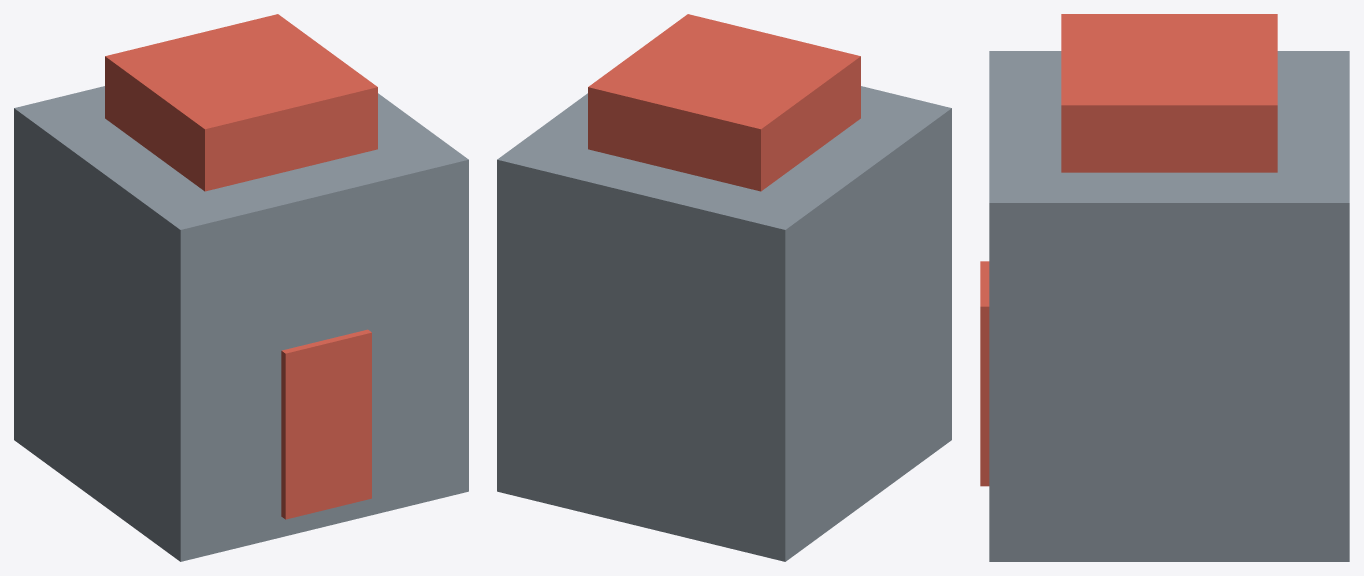
File: SU_TeslaTower_LOD0.glb
The picture shows the model from 3 angles, left to right: view 1: azimuth 30°, elevation 25°; view 2: azimuth 150°, elevation 25°; view 3: azimuth 270°, elevation 25°; orthographic projection. The views are drawn at different scales.
Parts seen in each view (by area): view 1: EntranceGate; view 2: EntranceGate; view 3: EntranceGate.
Boxes of the visible parts, left/top/right/bottom form: EntranceGate: left=14, top=14, right=468, bottom=561; EntranceGate: left=497, top=14, right=951, bottom=561; EntranceGate: left=980, top=14, right=1349, bottom=561.
Bounding box in the file's own units: 400 × 523 × 410.
